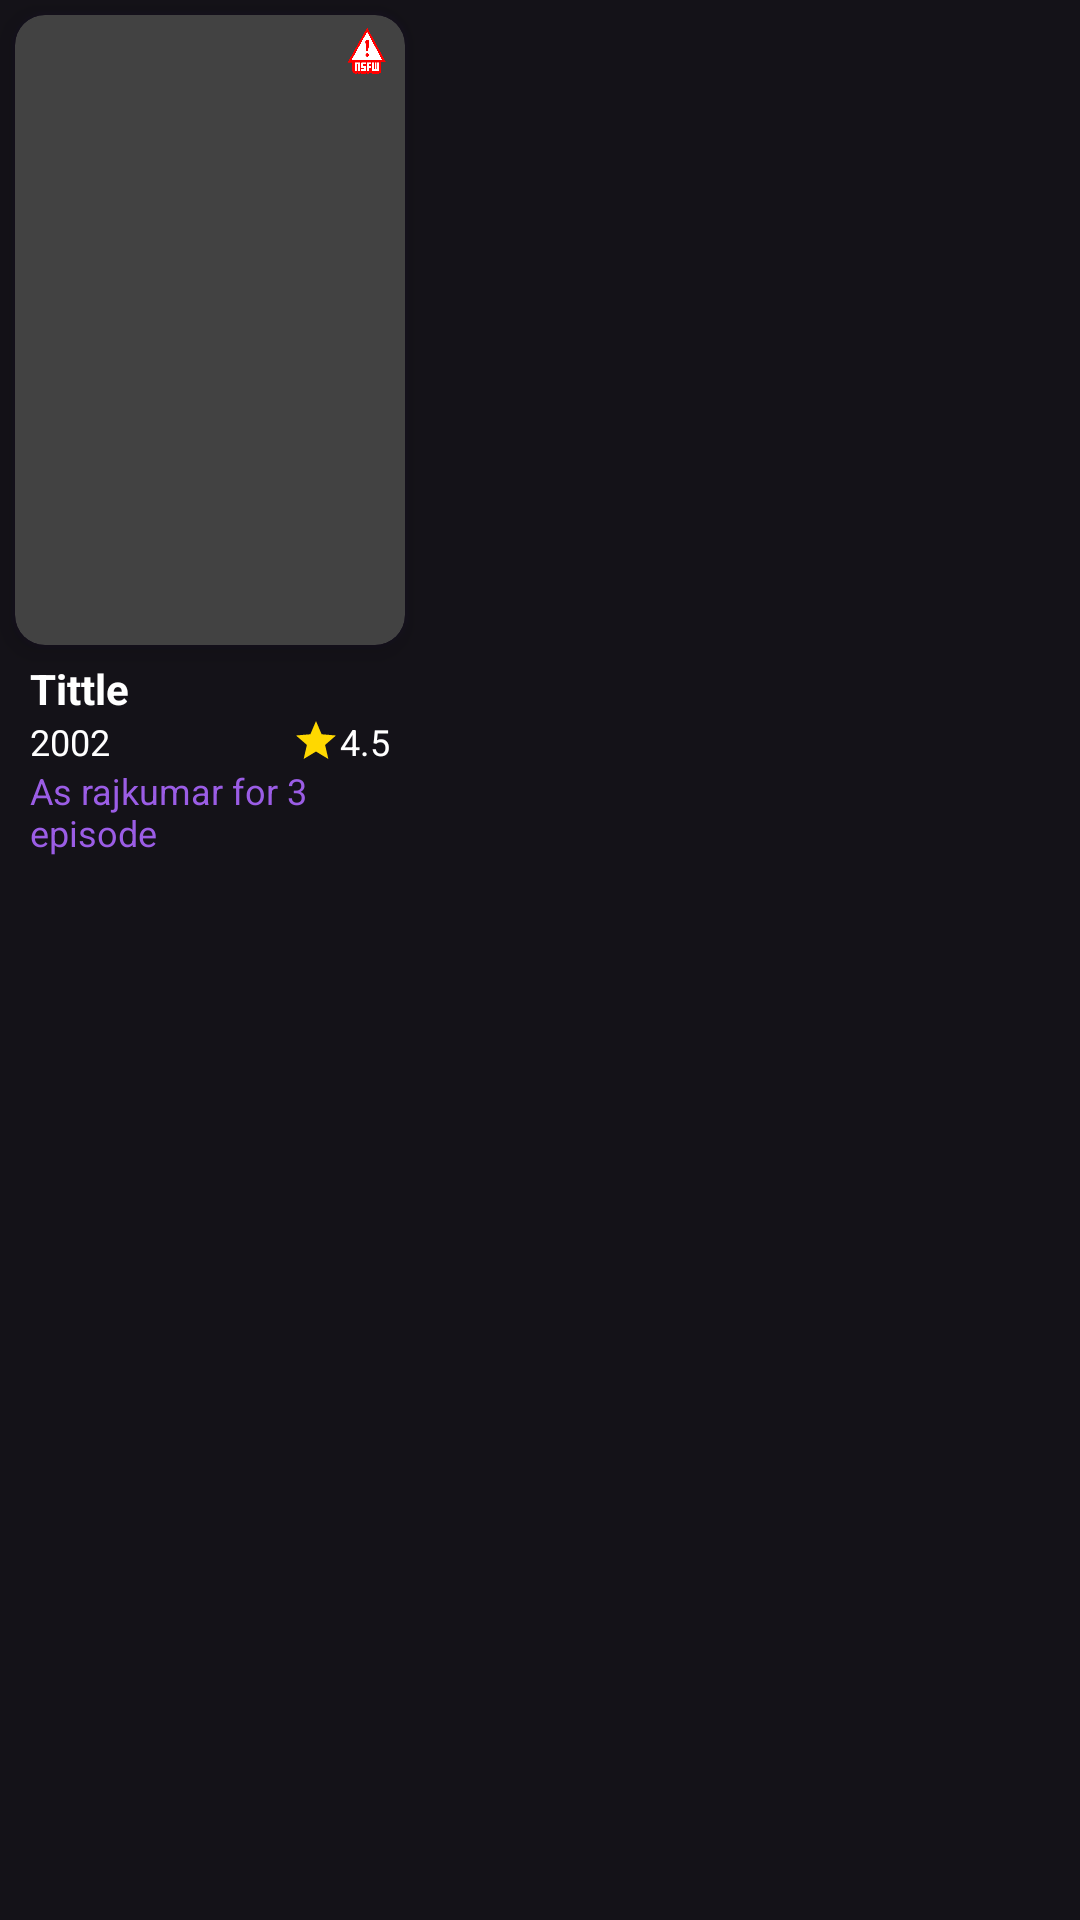

Named icons in this screenshot (1080px x 1920px) and their centers, [x,y]:
star: [316,740]
